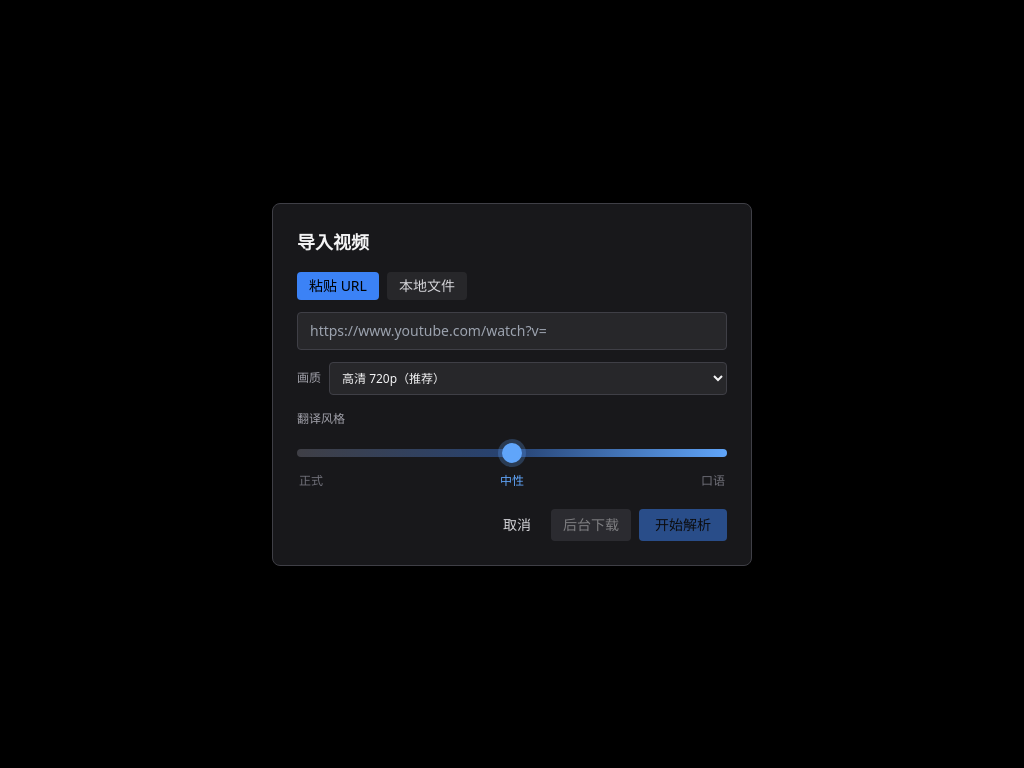
Scenario: ImportModal — managed AI quota preflight › blocks import before download when managed Pro quota is exhausted
Step 1. Type "https://www.youtube.com/watch?v=jNQXAC9IVRw" into the field with placeholder "https://www.youtube.com/watch?v=" → (512, 330), box [297,312,727,350]
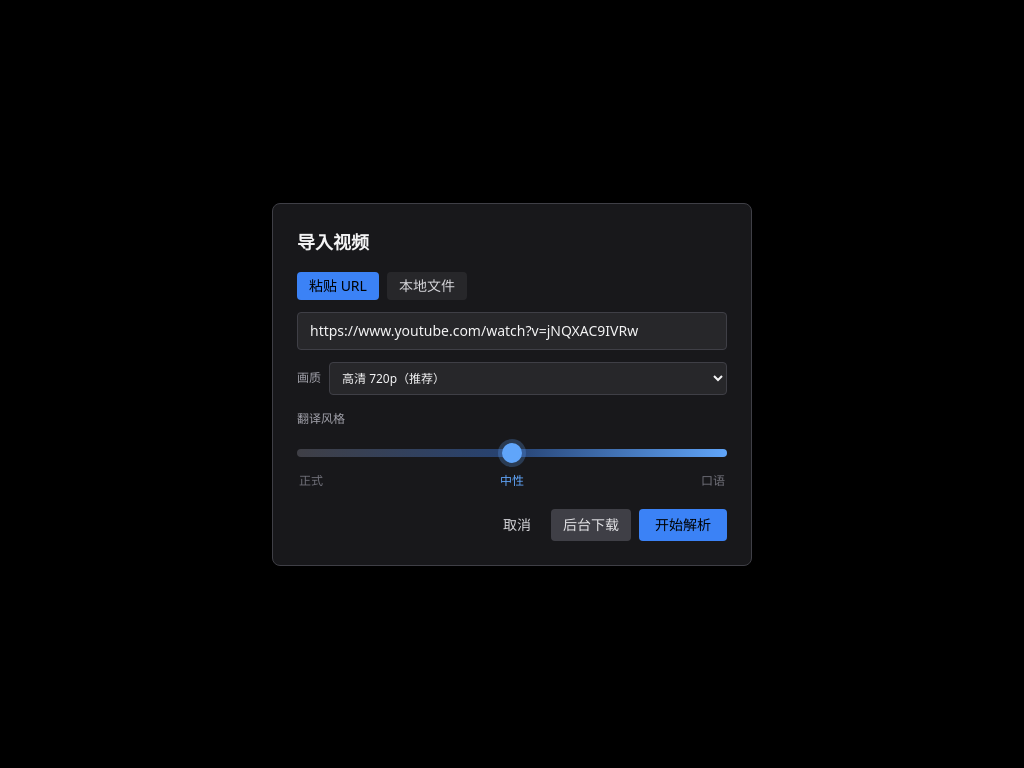
Step 2. Click the button "开始解析" → (683, 524), box [639,508,727,540]
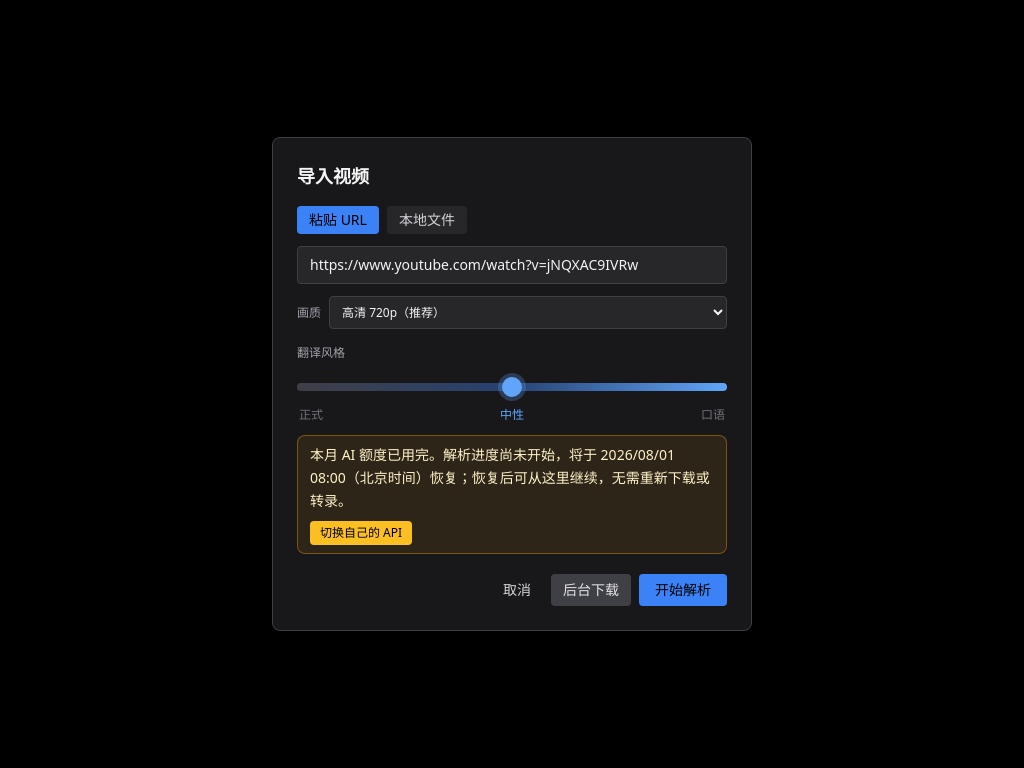
Check: the text "本月 AI 额度已用完" is shown, box [310,445,710,510]
